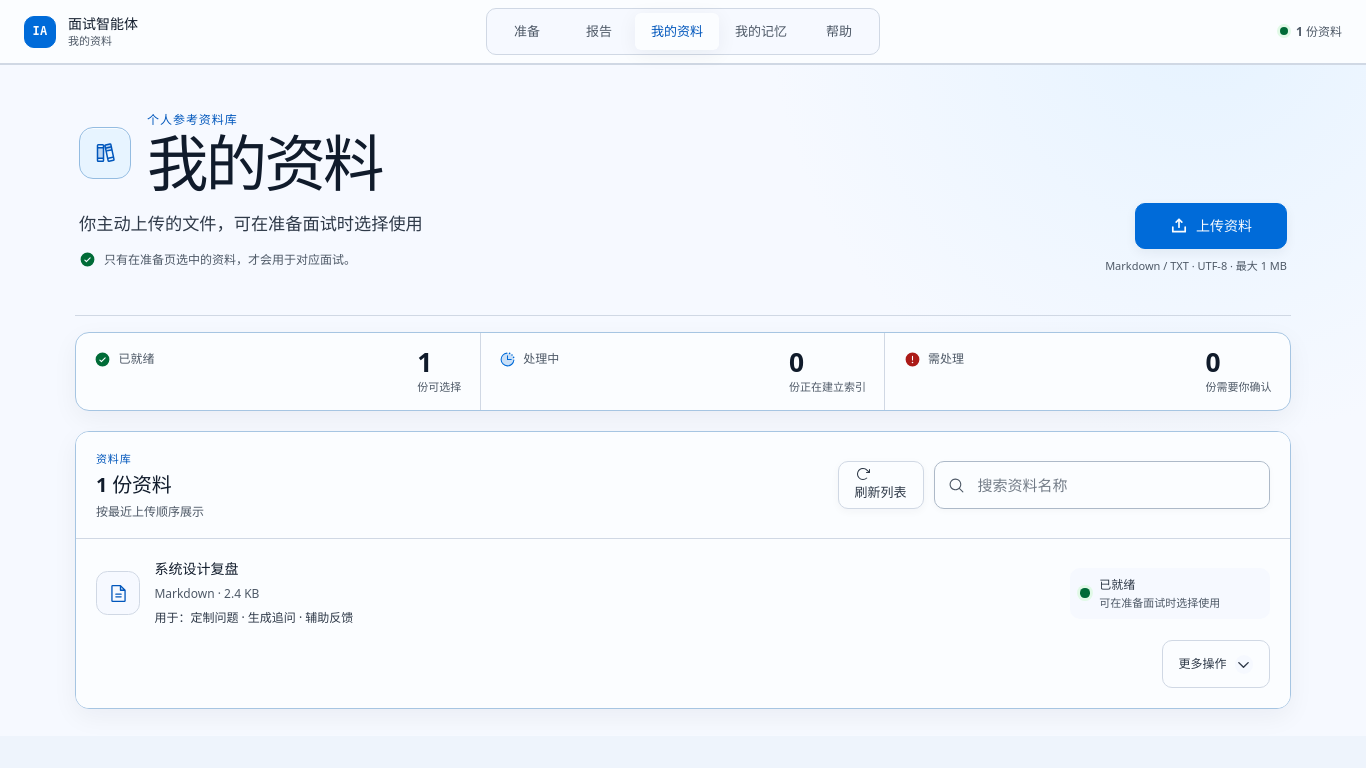
Test case: MaterialsPage › preserves the usage draft and disclosure when saving fails
This screenshot has width=1366, height=768.
Click the button "更多操作": (1216, 664) [1162,640,1270,688]
(page scrolled)
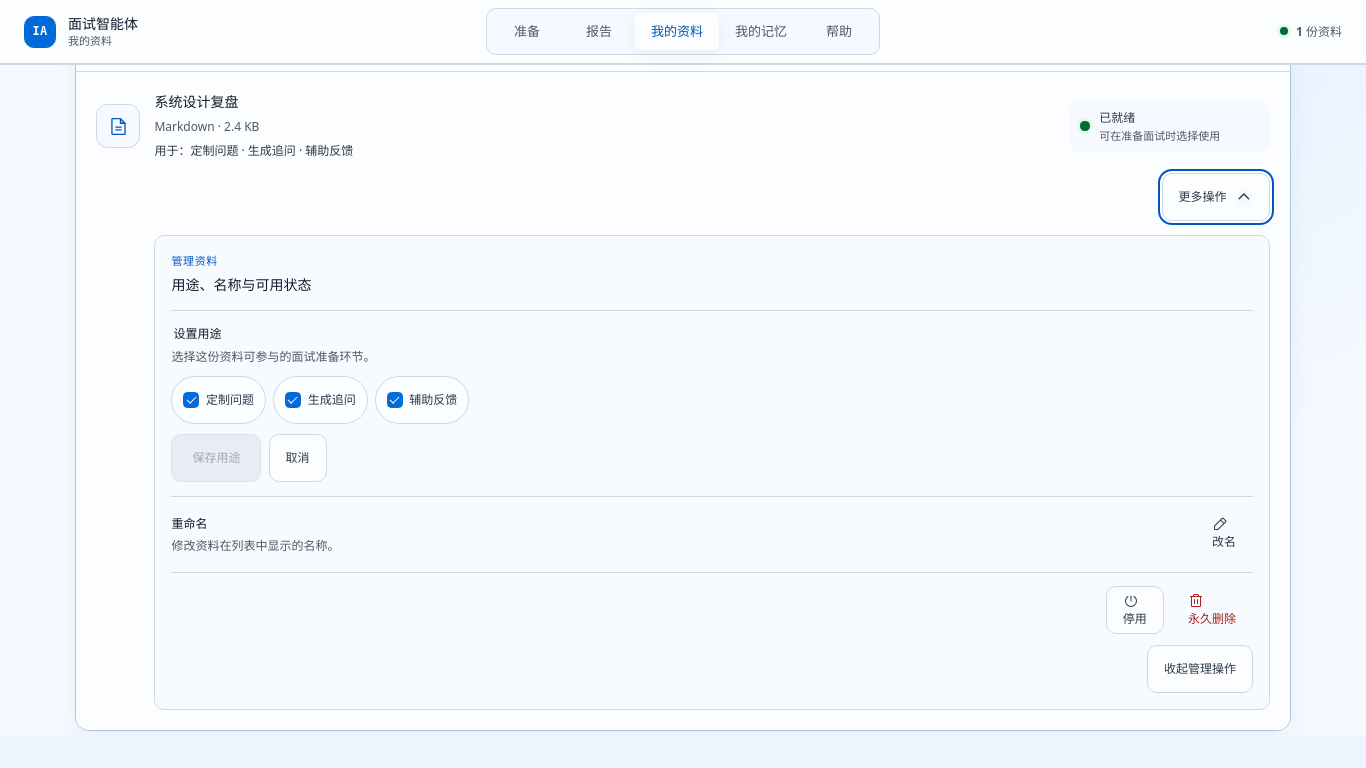
Click the checkbox named "系统设计复盘：辅助反馈": (395, 400) [387,392,403,408]
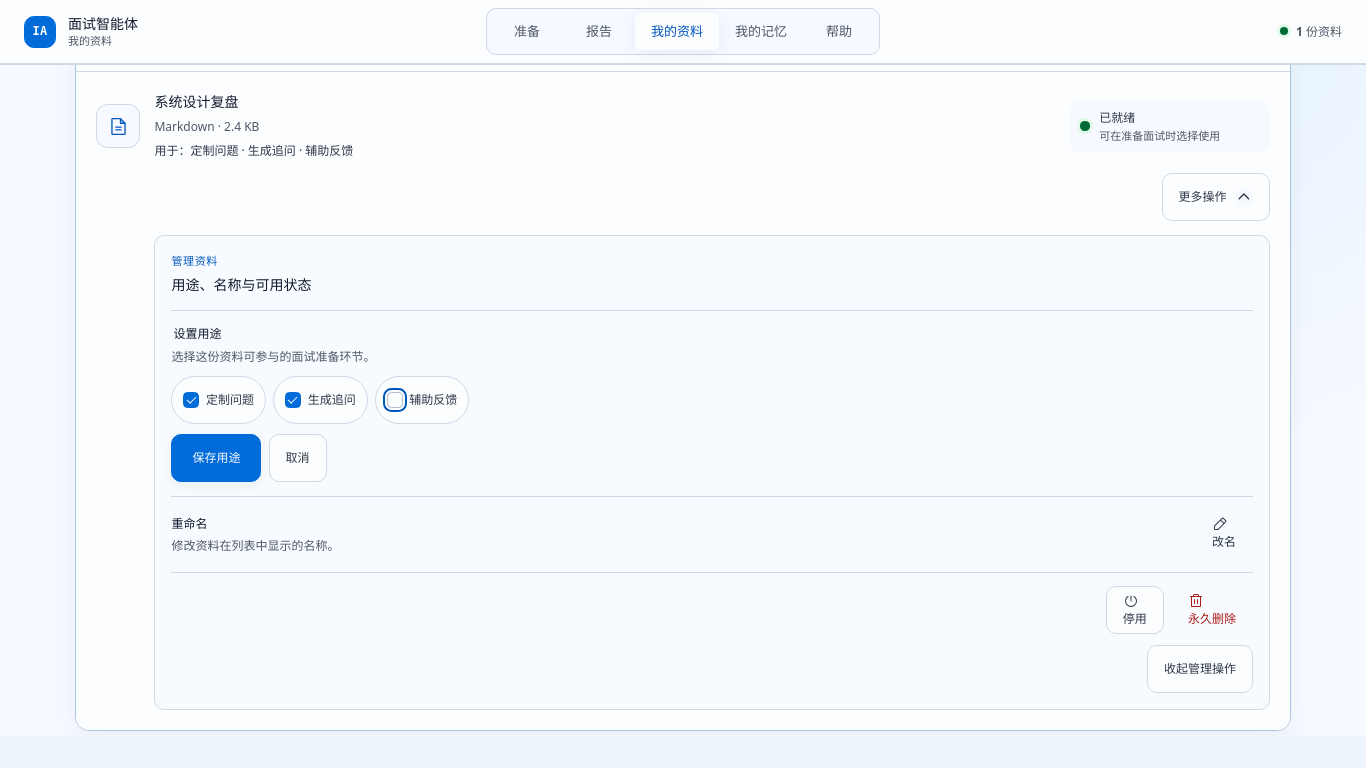
Click the button "保存用途": (216, 458) [171,434,261,482]
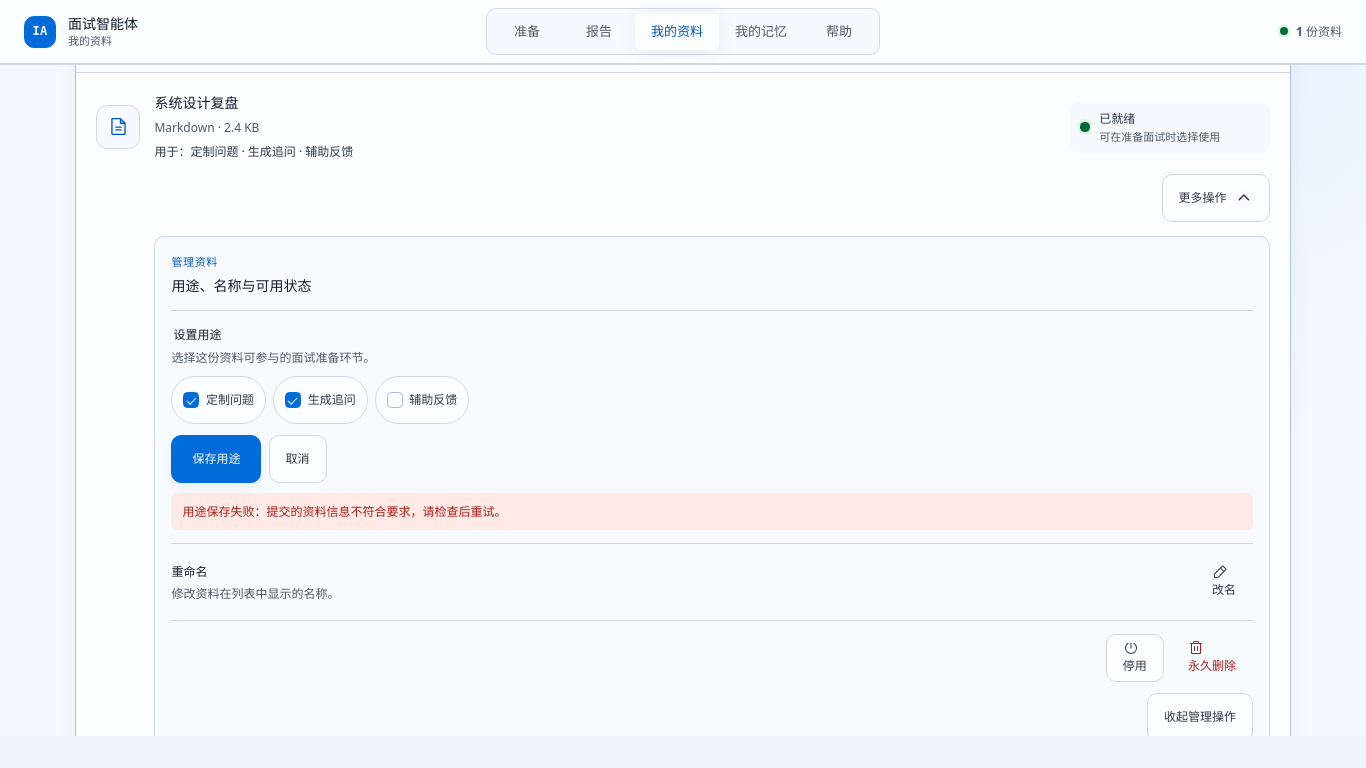
Check: the checkbox named "系统设计复盘：辅助反馈" is not checked, box [387,392,403,408]
Check: the button "更多操作" is expanded, box [1162,174,1270,222]
Check: the message "用途保存失败：提交的资料信息不符合要求，请检查后重试。" is shown, box [171,493,1253,530]
